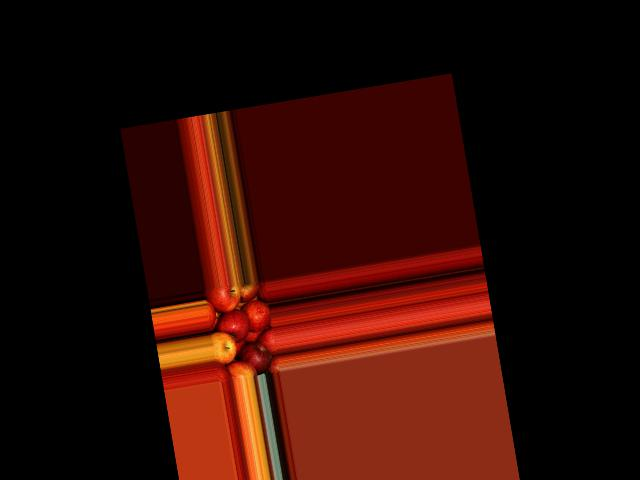apple: (239, 297, 272, 336)
